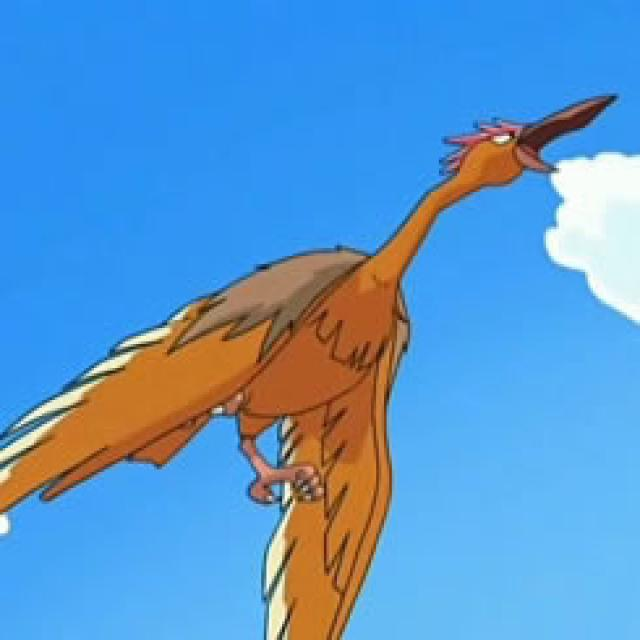Fearow: (86, 108, 598, 520)
